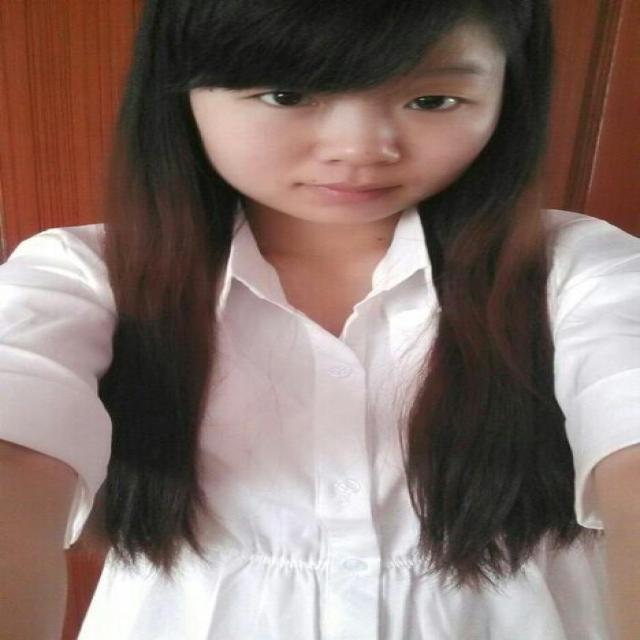short-sleeve-dress: (0, 174, 616, 606)
